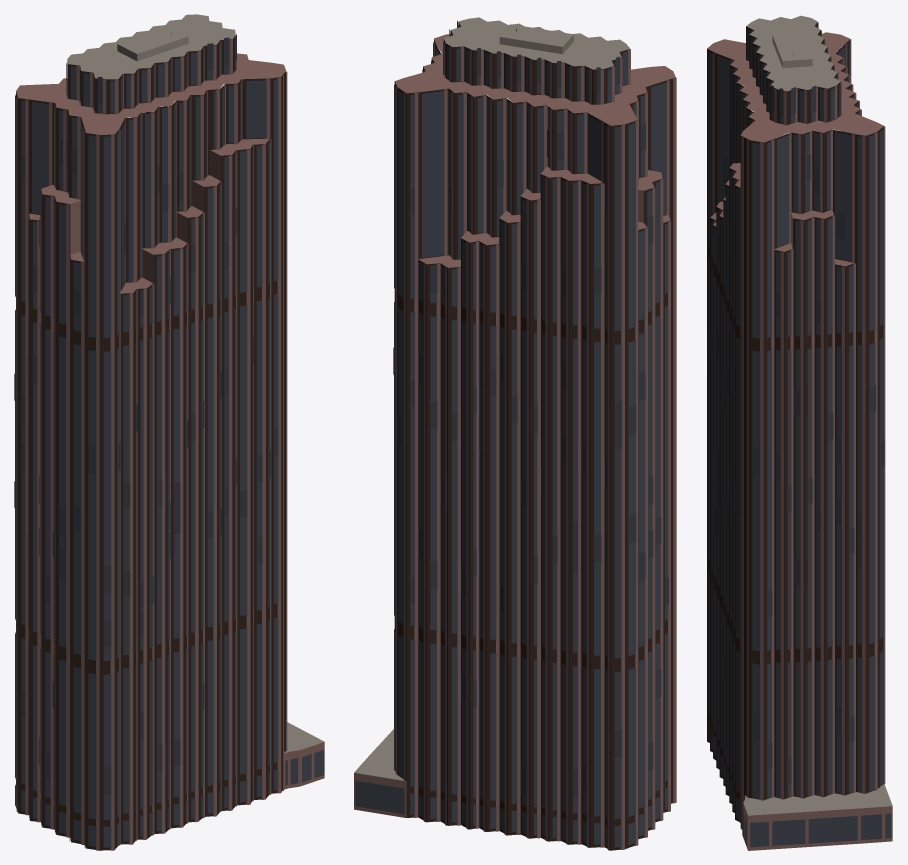
The model's file is 555-california-street-far.glb.
3 renders of one model, left to right at view 1: azimuth 30°, elevation 25°; view 2: azimuth 150°, elevation 25°; view 3: azimuth 270°, elevation 25°, orthographic. The views are drawn at different scales.
Parts seen in each view (by area): view 1: 555-california-street-0-glass, 555-california-street-0-spandrel, 555-california-street-0-granite, 555-california-street-0-glow, 555-california-street-0-roof; view 2: 555-california-street-0-glass, 555-california-street-0-granite, 555-california-street-0-spandrel, 555-california-street-0-glow, 555-california-street-0-roof; view 3: 555-california-street-0-glass, 555-california-street-0-spandrel, 555-california-street-0-granite, 555-california-street-0-roof, 555-california-street-0-glow.
Part boxes in pixels (x1,y1,x2,y2): 555-california-street-0-glass: (15,38,324,847); 555-california-street-0-spandrel: (16,35,286,850); 555-california-street-0-granite: (16,36,324,850); 555-california-street-0-glow: (14,34,278,794); 555-california-street-0-roof: (67,14,324,753); 555-california-street-0-glass: (355,25,668,847); 555-california-street-0-granite: (354,26,676,850); 555-california-street-0-spandrel: (394,22,675,850); 555-california-street-0-glow: (393,20,668,796); 555-california-street-0-roof: (354,17,629,780); 555-california-street-0-glass: (708,25,891,847); 555-california-street-0-spandrel: (707,22,884,828); 555-california-street-0-granite: (707,22,892,850); 555-california-street-0-roof: (743,15,892,815); 555-california-street-0-glow: (707,85,884,784).
Bounding box in the file's own units: 88.53 × 240 × 55.48.
